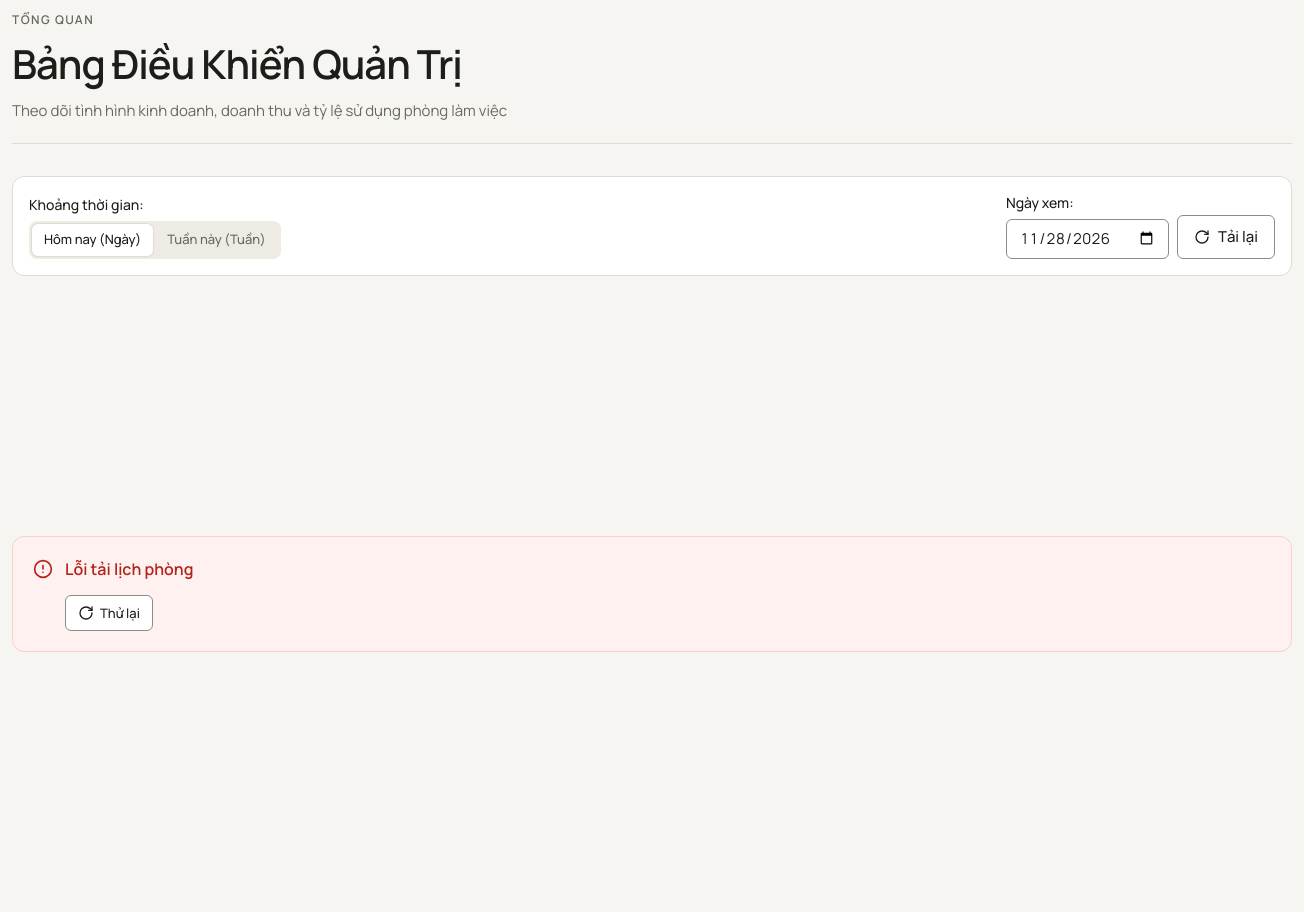
Test: AdminDashboardPage Independent Loading & Error Isolation (CWB-123) › isolates initial schedule failure from KPI, shows em-dash on card #4, and retries only schedule
Expected: the message "Lỗi tải lịch phòng Thử lại" is shown, [12,536,1292,652]
Expected: the text "Lỗi tải lịch phòng" is shown, [65,558,193,580]
Click the button with test id "dashboard-schedule-retry-btn": (109, 613) [65,595,153,631]
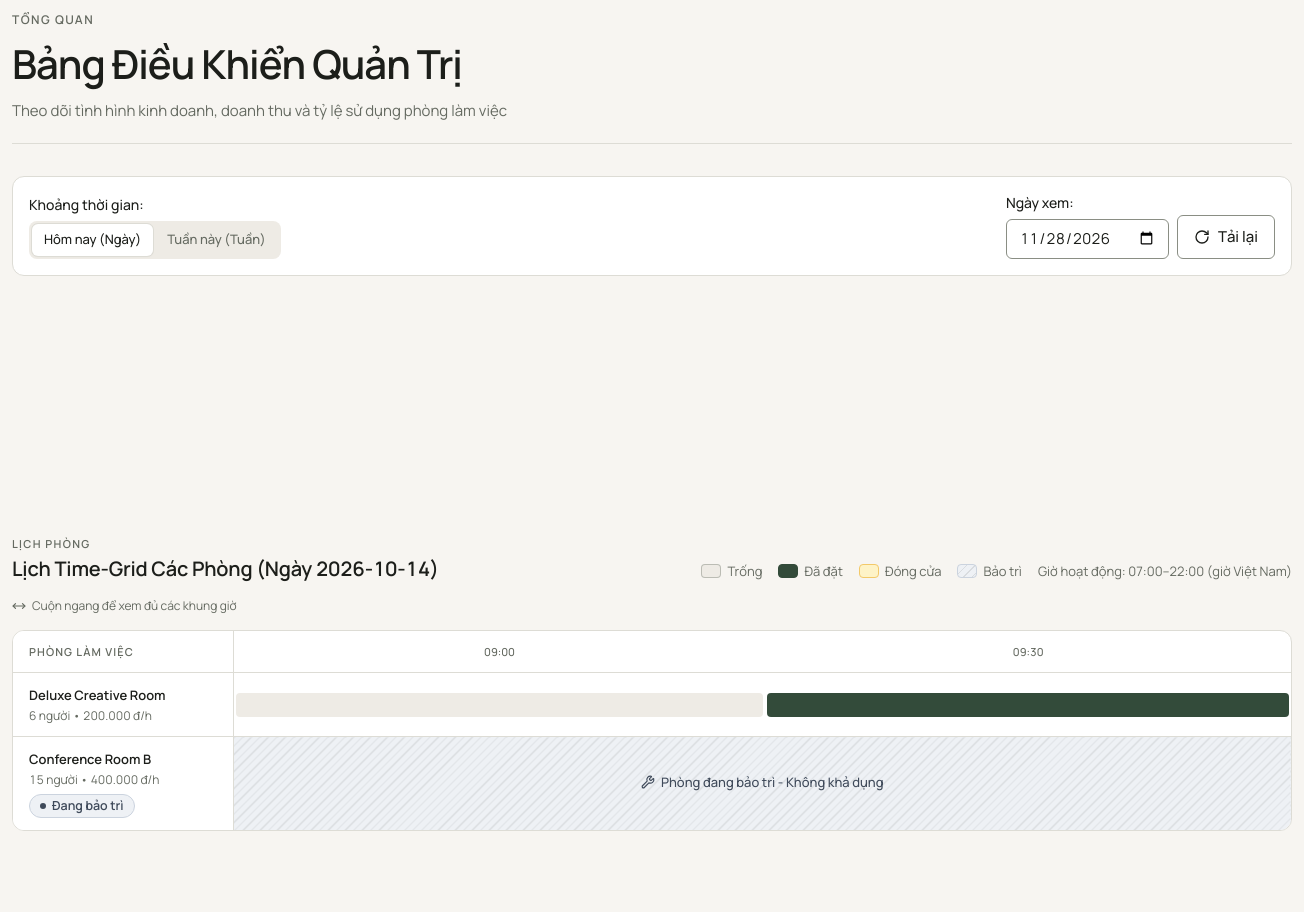
Expected: the text "Deluxe Creative Room" is shown, [29,686,166,704]
